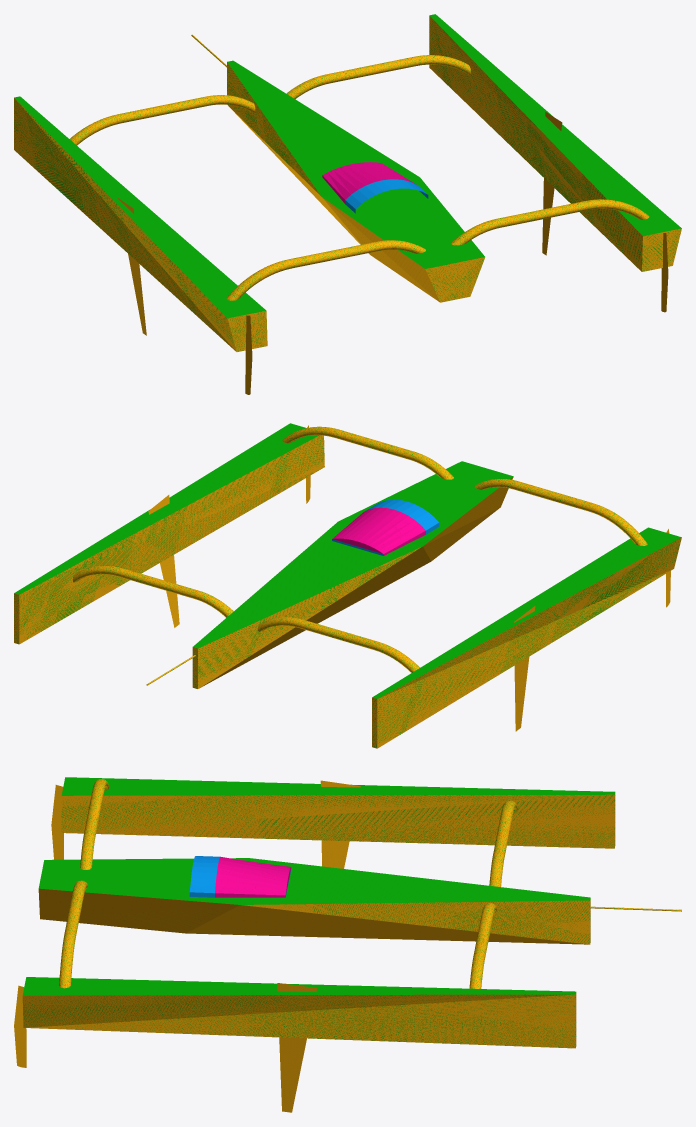
Rendered from TRIMARAN_COQUE.dae.
3 views of the same model, one above another, from view 1: azimuth 30°, elevation 25°; view 2: azimuth 150°, elevation 25°; view 3: azimuth 270°, elevation 25° (orthographic). The views are drawn at different scales.
Parts seen in each view (by area): view 1: SketchUp (×17); view 2: SketchUp (×16); view 3: SketchUp (×18).
Part boxes in pixels (x1,y1,x2,y2): SketchUp (×17): (14, 14, 681, 351); SketchUp (×16): (14, 423, 681, 748); SketchUp (×18): (14, 777, 615, 1112).
Bounding box in the file's own units: 90181 × 111154 × 28129.
